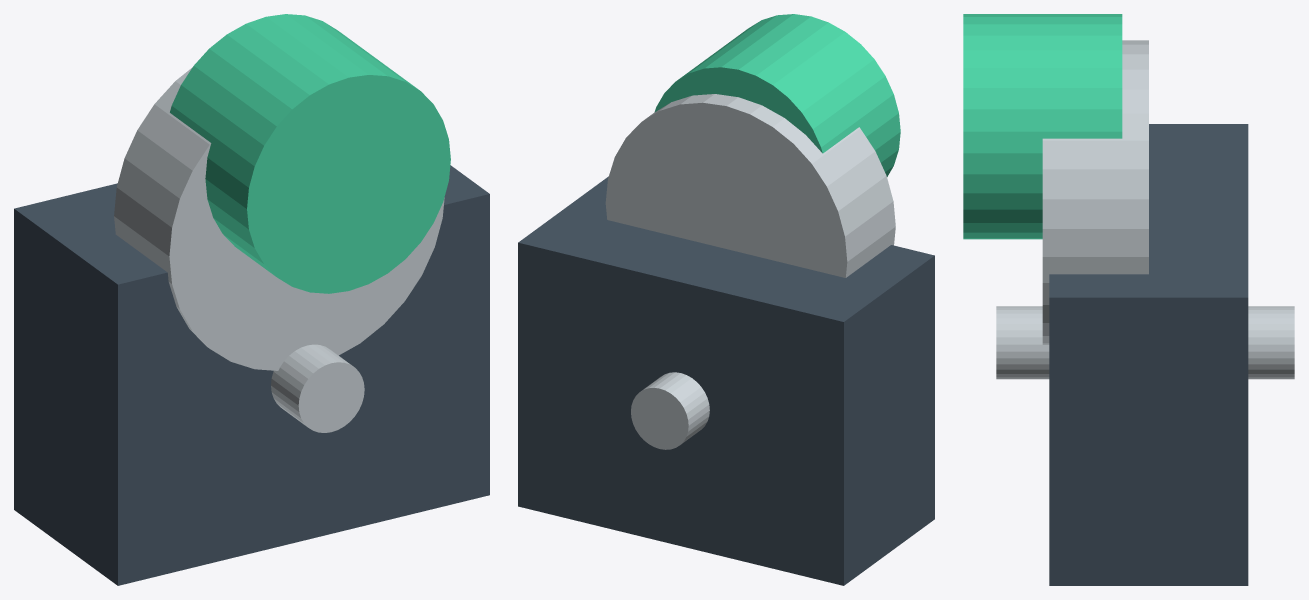
Rendered from pilot_green.glb.
The picture shows the model from 3 angles, left to right: view 1: azimuth 30°, elevation 25°; view 2: azimuth 150°, elevation 25°; view 3: azimuth 270°, elevation 25°; orthographic projection. The views are drawn at different scales.
Parts seen in each view (by area): view 1: pilot_green_0, pilot_green_2, pilot_green_1, pilot_green_5; view 2: pilot_green_0, pilot_green_1, pilot_green_2, pilot_green_4; view 3: pilot_green_0, pilot_green_2, pilot_green_1, pilot_green_5, pilot_green_4.
Part boxes in pixels (x1,y1,x2,y2): pilot_green_0: (14,165,489,585); pilot_green_2: (170,14,450,293); pilot_green_1: (114,67,444,370); pilot_green_5: (271,344,364,432); pilot_green_0: (518,176,934,585); pilot_green_1: (605,94,895,277); pilot_green_2: (654,14,900,176); pilot_green_4: (631,372,709,449); pilot_green_0: (1049,124,1248,585); pilot_green_2: (963,14,1122,239); pilot_green_1: (1042,40,1148,344); pilot_green_5: (996,306,1049,379); pilot_green_4: (1248,306,1294,379).
Bounding box in the file's own units: 0.62 × 0.79 × 0.5.
